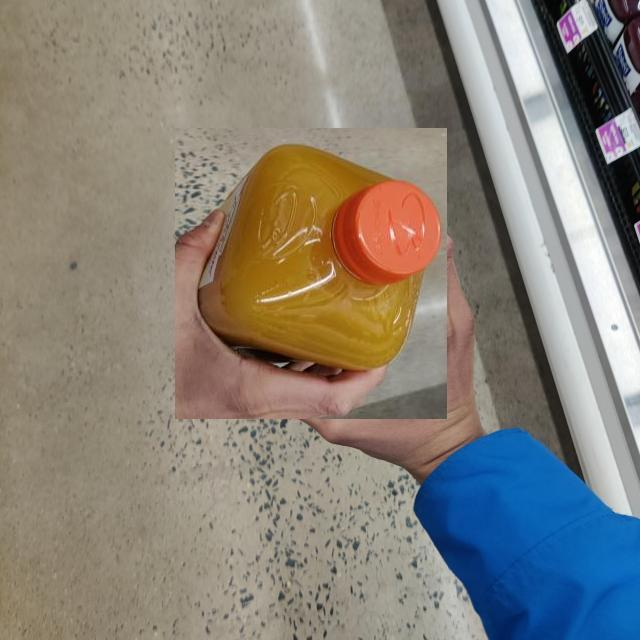Juice: (174, 128, 447, 419)
